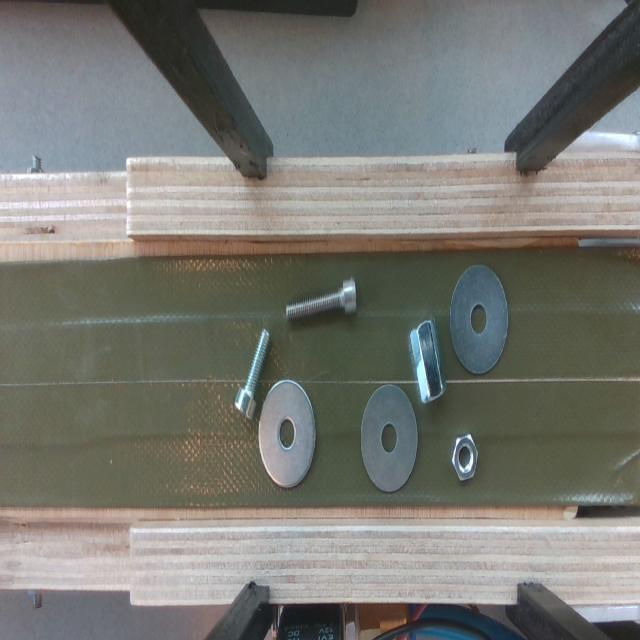Bolt: (277, 273, 368, 329), (232, 323, 276, 419)
Nut: (400, 313, 453, 406), (446, 432, 482, 483)
Washer: (251, 377, 322, 495), (447, 259, 516, 379), (362, 383, 422, 497)
